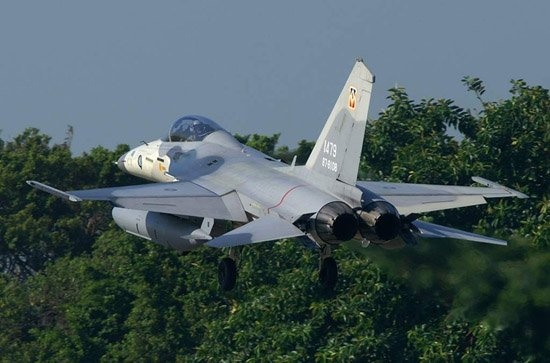airplane: (22, 57, 531, 260)
